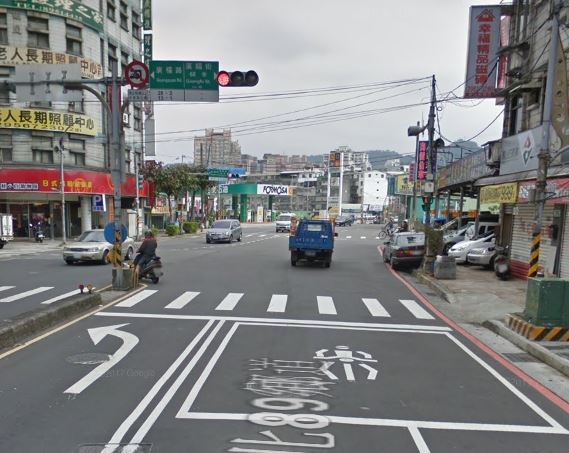Traffic_light_red: (217, 70, 259, 89)
